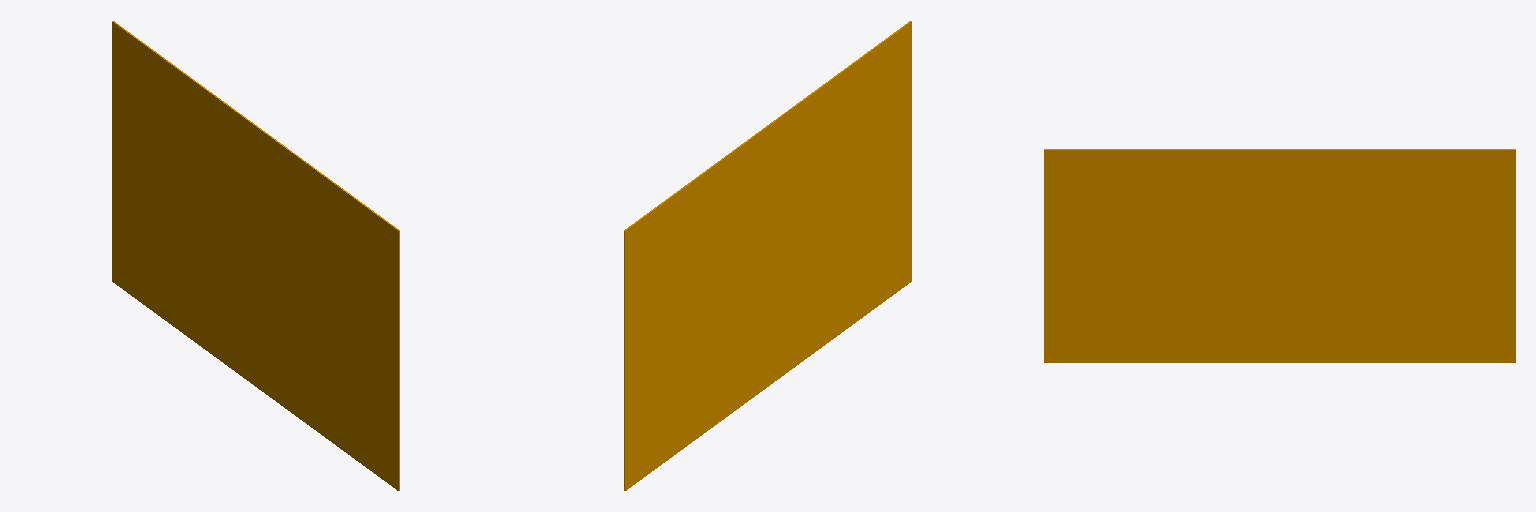
URDF robot description (front_wall):
<?xml version='1.0' encoding='UTF-8'?>
<robot name="front_wall">
  <link name="base_link">
    <inertial>
      <origin xyz="0.0 0.0 0.0" rpy="0.0 -0.0 0.0"/>
      <mass value="1.0"/>
      <inertia ixx="1.0" ixy="0.0" ixz="0.0" iyy="1.0" iyz="0.0" izz="1.0"/>
    </inertial>
    <visual name="base_link_visual">
      <geometry>
        <box size="0.1 32 16"/>
      </geometry>
      <origin xyz="0 8.0 0.0" rpy="3.14159 0 0"/>
    </visual>
    <collision name="base_link_collision">
      <geometry>
        <box size="0.1 32 16"/>
      </geometry>
      <origin xyz="0 8.0 0.0" rpy="3.14159 0 0"/>
    </collision>
  </link>
</robot>

--- What the picture shows (computed from the rendered views, not written in the file) ---
Views: 3 orthographic renders of the robot side by side, from view 1: azimuth 30°, elevation 25°; view 2: azimuth 150°, elevation 25°; view 3: azimuth 270°, elevation 25°.
Model front_wall with 1 links and 0 joints (none), rooted at base_link, posed every joint at zero.
Links seen in each view (by area): view 1: base_link; view 2: base_link; view 3: base_link.
Link boxes in pixels (x1=…): base_link: x1=112, y1=21, x2=399, y2=490; base_link: x1=624, y1=21, x2=911, y2=490; base_link: x1=1044, y1=149, x2=1515, y2=362.
Size in the robot's own frame: 0.1 by 32 by 16 metres.
Geometry: primitives only (box / cylinder / sphere), no mesh files.